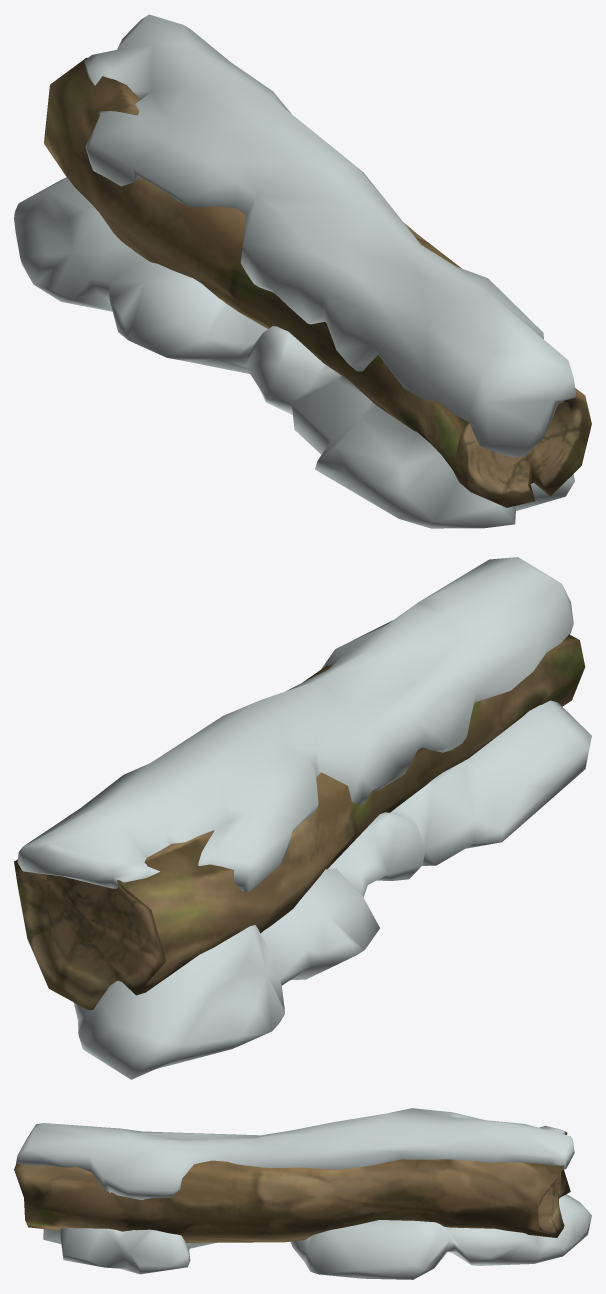
File: P_OakFallen2_SnowCover.obj
3 renders of one model, top to bottom at view 1: azimuth 30°, elevation 25°; view 2: azimuth 150°, elevation 25°; view 3: azimuth 270°, elevation 25°, orthographic. The views are drawn at different scales.
Size of the model in its own units: 2.31 by 2.12 by 7.37.
